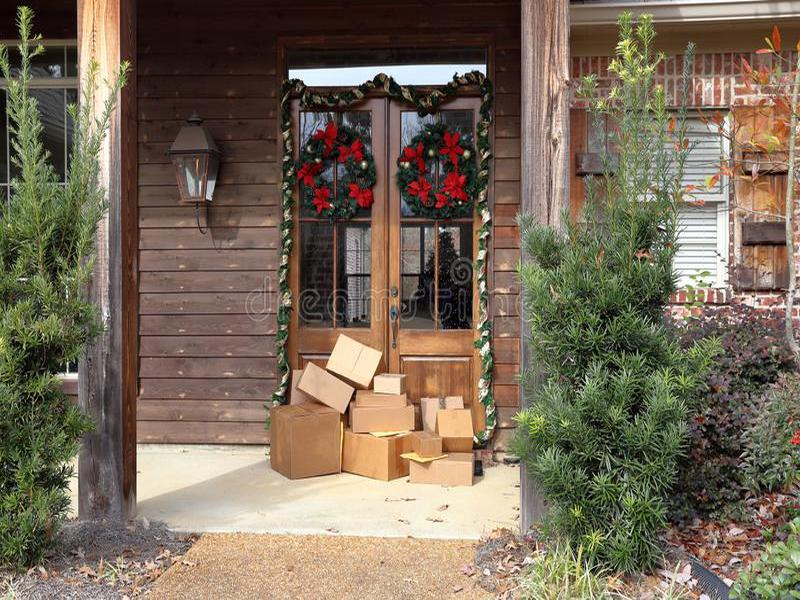package: (260, 402, 344, 482), (321, 331, 386, 391), (293, 358, 357, 418), (342, 429, 410, 484), (408, 452, 479, 493), (347, 402, 417, 435), (435, 404, 479, 454), (374, 370, 410, 398)
